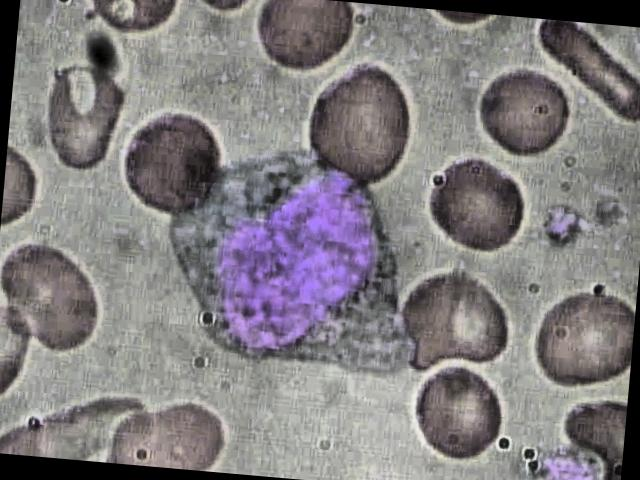RBC: (296, 50, 424, 194), (391, 265, 518, 380), (111, 103, 238, 218), (516, 272, 636, 393), (399, 354, 519, 472), (28, 47, 133, 180), (418, 149, 536, 260), (0, 237, 109, 354), (525, 18, 640, 128), (472, 58, 578, 170)
WBC: (156, 139, 432, 396)
